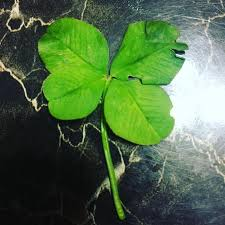4-clover: (37, 15, 184, 143)
